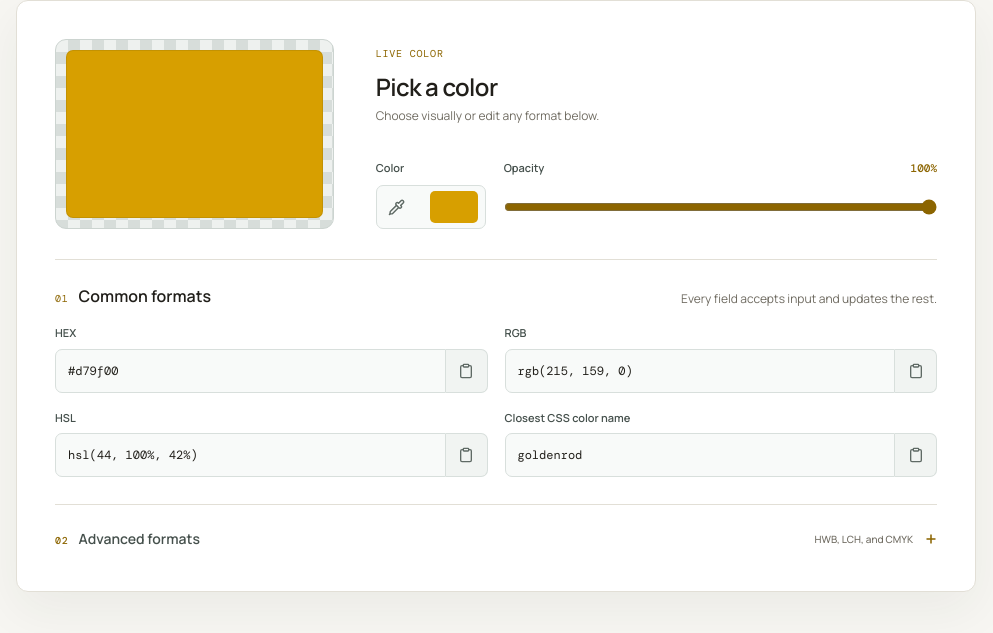
ColorConverterTool › keeps the last valid conversions while showing invalid source feedback
Step 1. Replace the text in the field labelled "RGB" with "invalid-rgb" → {"x": 700, "y": 370}, box [504, 348, 895, 392]
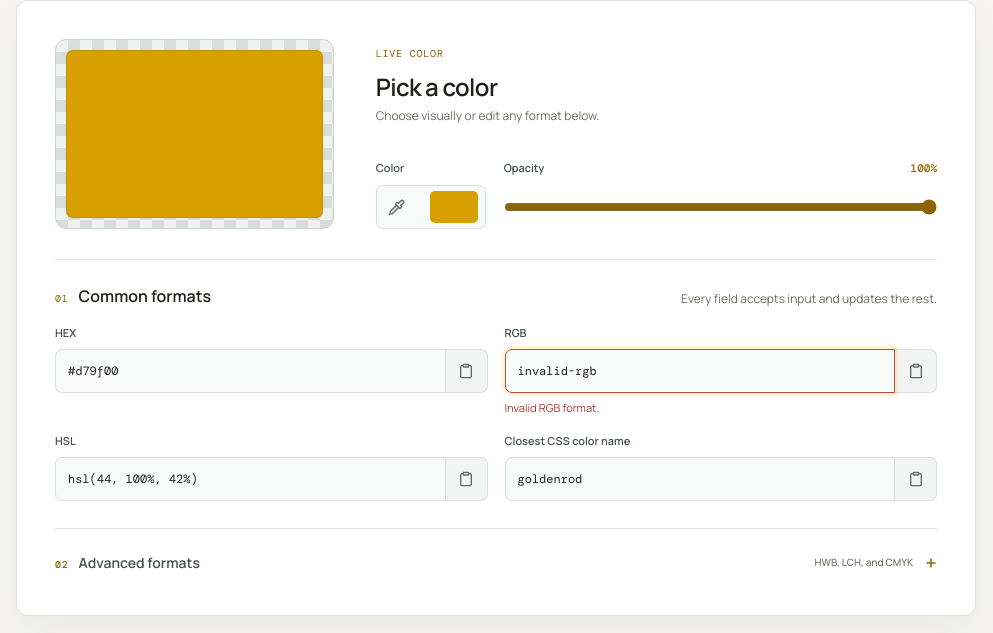
Expected: the field labelled "HEX" holds "#d79f00", [55, 348, 446, 392]
Expected: the text "Invalid RGB format." is shown, [504, 400, 599, 414]
Step 2. Clear the field labelled "RGB" → {"x": 700, "y": 370}, box [504, 348, 895, 392]
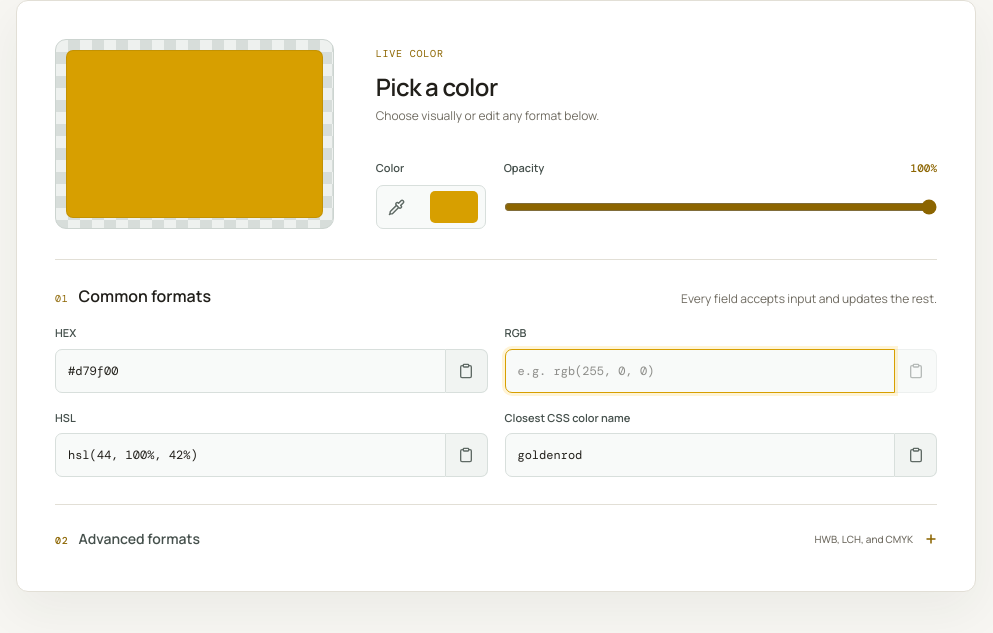
Expected: the field labelled "HEX" holds "#d79f00", [55, 348, 446, 392]
Expected: the text "Invalid RGB format." is gone
